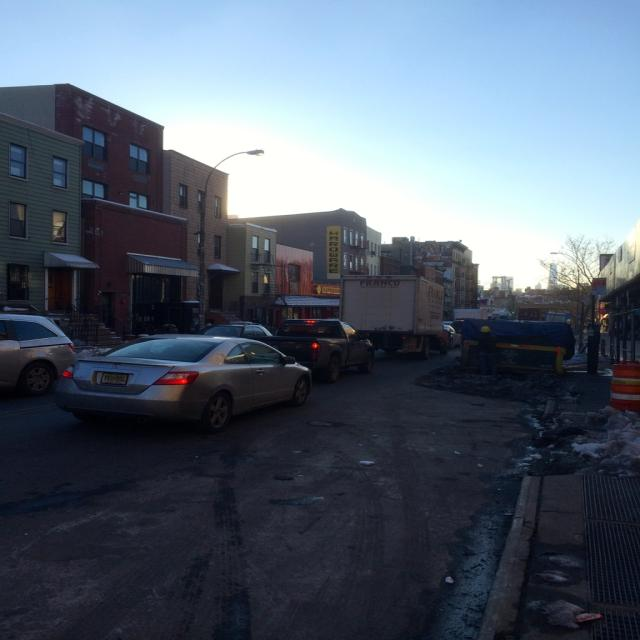car: (53, 332, 316, 432)
